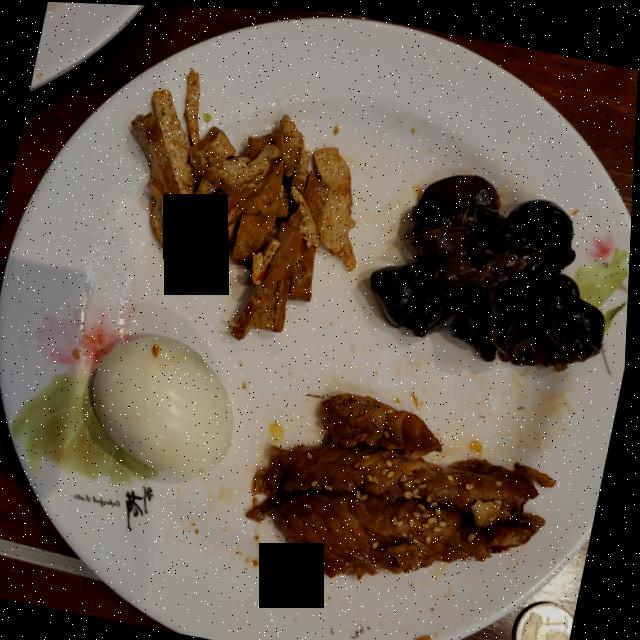Kabayaki sea bream fillet: (252, 391, 558, 574)
coin: (520, 598, 579, 640)
